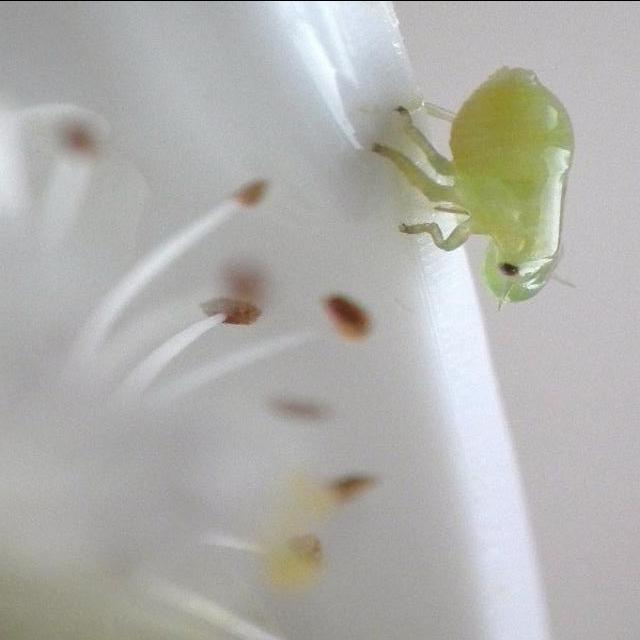aphid: (382, 55, 596, 339)
